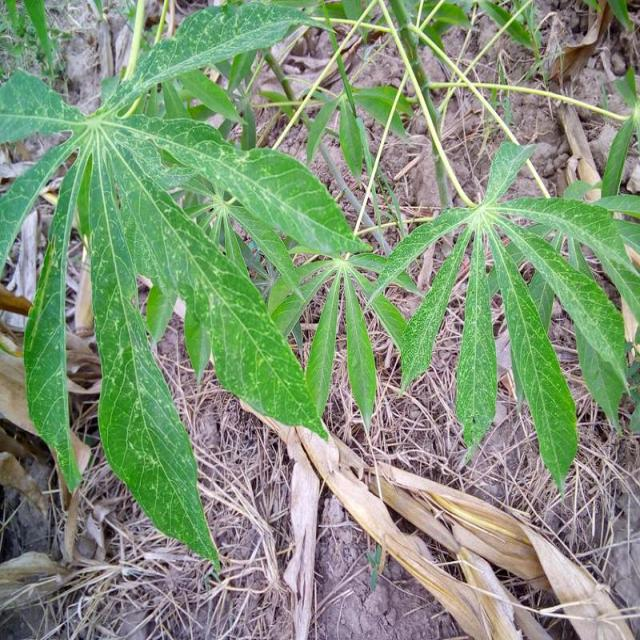cassava leaf: (0, 3, 361, 574), (364, 138, 638, 498)
